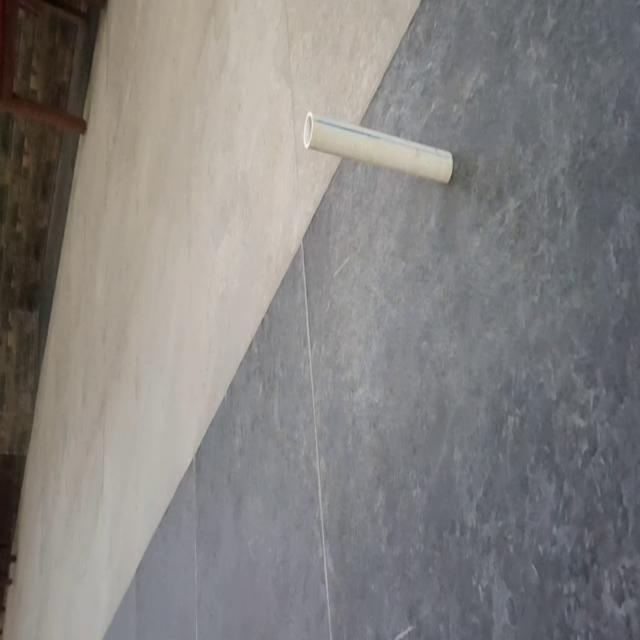Cube: (302, 109, 453, 185)
